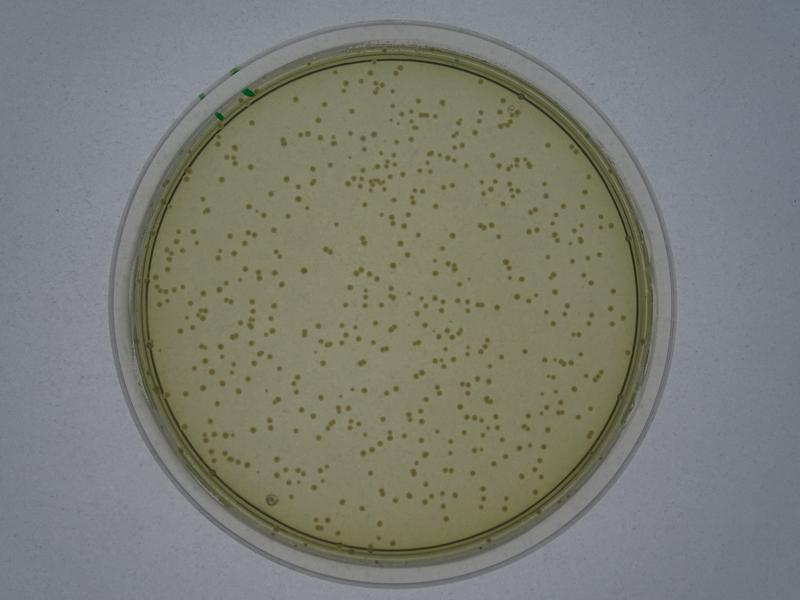colony: (247, 116, 258, 131), (247, 425, 259, 438), (516, 346, 529, 357), (246, 160, 256, 172), (299, 266, 309, 276), (448, 231, 459, 240), (216, 176, 227, 185), (332, 219, 341, 229), (393, 240, 404, 248), (319, 360, 327, 368)
